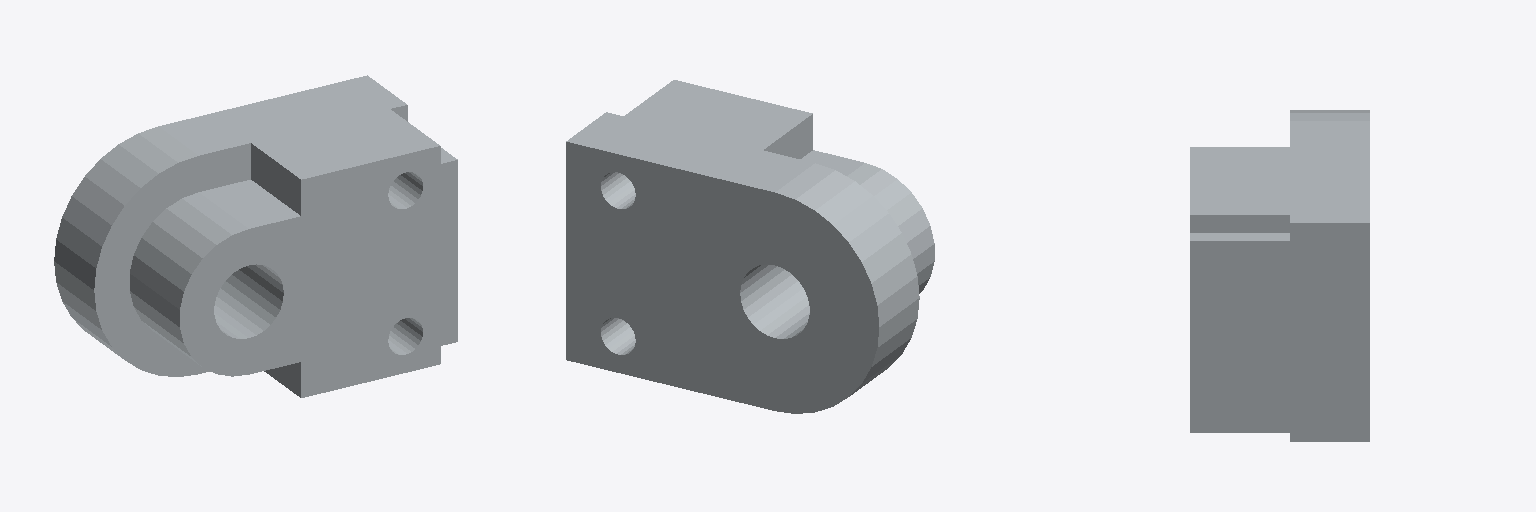
Rendered from Articulation.obj.
3 views of the same model, side by side, from view 1: azimuth 30°, elevation 25°; view 2: azimuth 150°, elevation 25°; view 3: azimuth 270°, elevation 25° (orthographic).
Parts seen in each view (by area): view 1: Cylinder004001; view 2: Cylinder004001; view 3: Cylinder004001.
Part boxes in pixels (left/top/right/bottom): Cylinder004001: left=54, top=75, right=457, bottom=397; Cylinder004001: left=566, top=80, right=934, bottom=413; Cylinder004001: left=1190, top=110, right=1369, bottom=441.
Size of the model in its own units: 0.09 by 0.06 by 0.045.